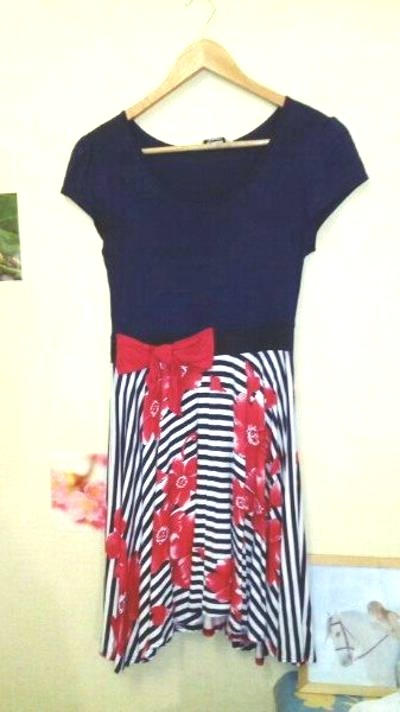Dress: (44, 69, 388, 686)
